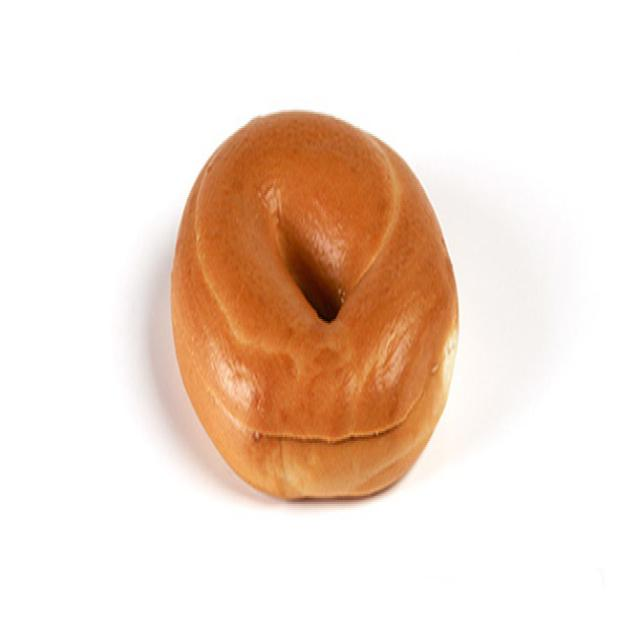Bagel: (171, 114, 458, 497)
